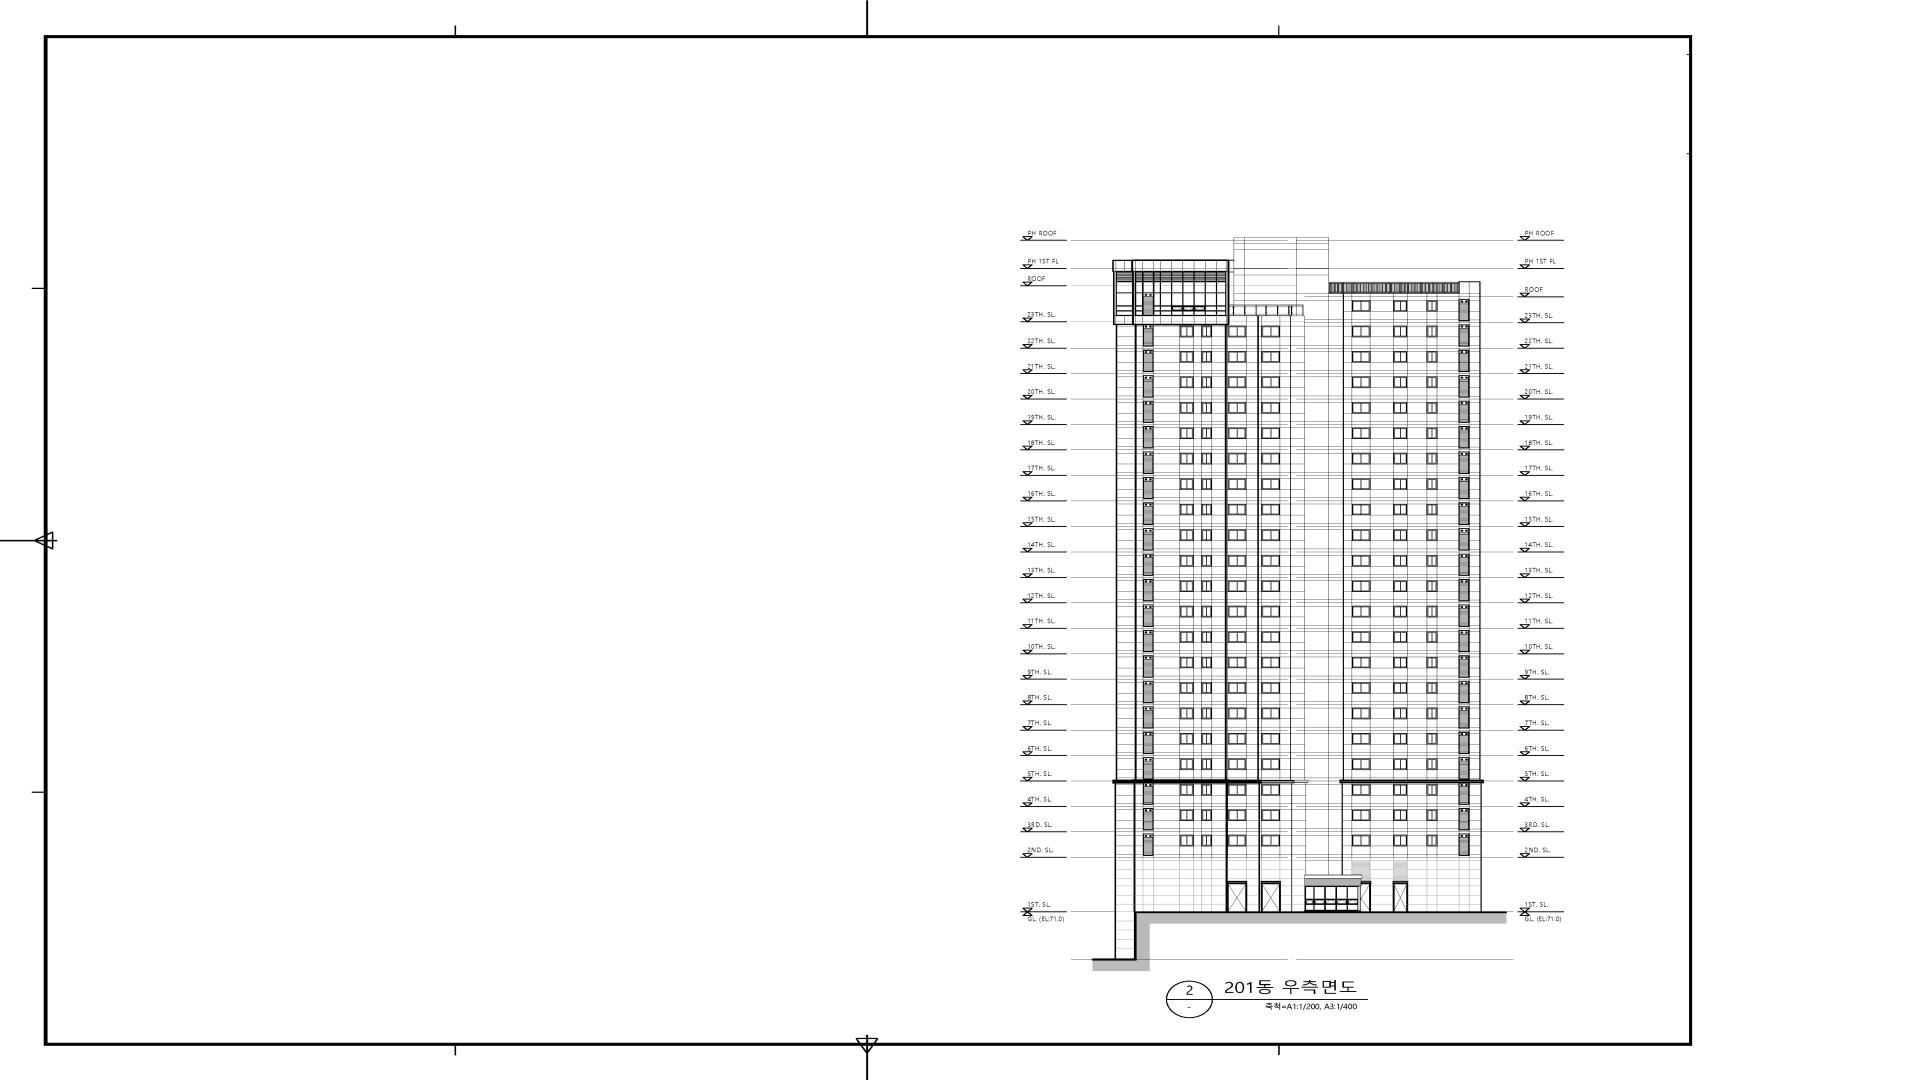door: (1228, 882, 1247, 913), (1261, 882, 1280, 913), (1393, 882, 1408, 913), (1360, 882, 1371, 913)
wall: (1113, 237, 1481, 960)
window: (1116, 293, 1133, 315), (1142, 293, 1154, 315), (1315, 886, 1325, 911), (1325, 886, 1336, 911), (1337, 886, 1348, 911), (1348, 886, 1358, 911), (1143, 833, 1154, 856), (1143, 808, 1154, 831), (1143, 782, 1154, 804), (1143, 757, 1154, 779), (1143, 732, 1154, 754), (1143, 705, 1154, 728), (1143, 680, 1154, 703), (1143, 655, 1154, 678), (1143, 630, 1154, 653), (1143, 604, 1154, 626), (1143, 579, 1154, 601), (1143, 554, 1154, 576), (1143, 527, 1154, 550), (1143, 502, 1154, 525), (1143, 477, 1154, 500), (1143, 451, 1154, 473), (1143, 426, 1154, 448), (1143, 401, 1154, 423), (1143, 376, 1154, 398), (1143, 349, 1154, 372), (1143, 324, 1154, 347), (1458, 833, 1469, 856), (1458, 808, 1469, 831), (1458, 782, 1469, 804), (1458, 757, 1469, 779), (1458, 732, 1469, 754), (1458, 707, 1469, 729), (1458, 680, 1469, 703), (1458, 655, 1469, 678), (1458, 630, 1469, 653), (1458, 604, 1469, 626), (1458, 579, 1469, 601), (1458, 554, 1469, 576), (1458, 529, 1469, 551), (1458, 502, 1469, 525), (1458, 477, 1469, 500), (1458, 451, 1469, 473), (1458, 426, 1469, 448), (1458, 401, 1469, 423), (1458, 375, 1469, 397), (1458, 349, 1469, 372), (1458, 324, 1469, 347), (1160, 293, 1171, 315), (1172, 293, 1183, 315), (1183, 293, 1193, 315), (1195, 293, 1205, 315), (1205, 293, 1216, 315), (1216, 293, 1226, 315), (1261, 835, 1280, 847), (1261, 810, 1280, 822), (1261, 758, 1280, 770), (1261, 733, 1280, 745), (1261, 682, 1280, 694), (1261, 657, 1280, 669), (1261, 605, 1280, 617), (1261, 580, 1280, 592), (1261, 529, 1280, 541), (1261, 504, 1280, 516), (1261, 452, 1280, 464), (1261, 427, 1280, 439), (1261, 402, 1280, 414), (1261, 376, 1280, 388), (1261, 351, 1280, 363), (1261, 326, 1280, 338), (1352, 555, 1371, 567), (1458, 299, 1469, 320), (1228, 835, 1246, 847), (1228, 810, 1246, 822), (1228, 758, 1246, 770), (1228, 733, 1246, 745), (1228, 682, 1246, 694), (1228, 657, 1246, 669), (1228, 632, 1246, 644), (1228, 580, 1246, 592), (1228, 555, 1246, 567), (1228, 504, 1246, 516), (1228, 479, 1246, 491), (1228, 452, 1246, 464), (1228, 427, 1246, 439), (1228, 402, 1246, 414), (1228, 351, 1246, 363), (1228, 326, 1246, 338), (1352, 835, 1370, 847), (1352, 758, 1370, 770), (1352, 733, 1370, 745), (1352, 682, 1370, 694), (1352, 657, 1370, 669), (1352, 605, 1370, 617), (1352, 580, 1370, 592), (1352, 504, 1370, 516), (1352, 452, 1370, 464), (1352, 427, 1370, 439), (1352, 402, 1370, 414), (1352, 351, 1370, 363), (1352, 326, 1370, 338), (1261, 785, 1280, 795), (1261, 708, 1280, 719), (1261, 632, 1280, 642), (1261, 555, 1280, 566), (1261, 479, 1280, 489), (1305, 886, 1313, 911), (1228, 785, 1246, 795), (1228, 708, 1246, 719), (1228, 607, 1246, 617), (1228, 530, 1246, 541), (1228, 377, 1246, 388), (1352, 810, 1370, 820), (1352, 785, 1370, 795), (1352, 708, 1370, 719), (1352, 632, 1370, 642), (1352, 530, 1370, 541), (1352, 479, 1370, 489), (1352, 377, 1370, 388), (1352, 301, 1370, 311), (1393, 351, 1407, 363), (1393, 326, 1407, 338), (1179, 835, 1193, 847), (1179, 810, 1193, 822), (1179, 783, 1193, 795), (1179, 758, 1193, 770), (1179, 733, 1193, 745), (1179, 682, 1193, 694), (1179, 605, 1193, 617), (1179, 580, 1193, 592), (1179, 452, 1193, 464), (1179, 376, 1193, 388), (1179, 351, 1193, 363), (1393, 810, 1407, 822), (1393, 758, 1407, 770), (1393, 733, 1407, 745), (1393, 682, 1407, 694), (1393, 657, 1407, 669), (1393, 632, 1407, 644), (1393, 605, 1407, 617), (1393, 580, 1407, 592), (1393, 555, 1407, 567), (1393, 529, 1407, 541), (1393, 504, 1407, 516), (1393, 479, 1407, 491), (1393, 452, 1407, 464), (1393, 427, 1407, 439), (1393, 402, 1407, 414), (1393, 376, 1407, 388), (1180, 657, 1193, 669), (1180, 632, 1193, 644), (1180, 555, 1193, 567), (1180, 529, 1193, 541), (1180, 504, 1193, 516), (1180, 427, 1193, 439), (1180, 402, 1193, 414), (1180, 326, 1193, 338), (1394, 835, 1407, 847), (1393, 301, 1407, 311), (1393, 785, 1407, 795), (1393, 708, 1407, 719), (1180, 708, 1193, 719), (1180, 479, 1193, 489), (1201, 835, 1212, 847), (1201, 783, 1212, 795), (1201, 758, 1212, 770), (1201, 733, 1212, 745), (1201, 682, 1212, 694), (1201, 657, 1212, 669), (1201, 605, 1212, 617), (1201, 580, 1212, 592), (1201, 555, 1212, 567), (1201, 529, 1212, 541), (1201, 504, 1212, 516), (1201, 479, 1212, 491), (1201, 452, 1212, 464), (1201, 427, 1212, 439), (1201, 402, 1212, 414), (1201, 376, 1212, 388), (1201, 351, 1212, 363), (1201, 326, 1212, 338), (1427, 835, 1437, 847), (1427, 810, 1437, 822), (1427, 758, 1437, 770), (1427, 733, 1437, 745), (1427, 682, 1437, 694), (1427, 657, 1437, 669), (1427, 632, 1437, 644), (1427, 605, 1437, 617), (1427, 580, 1437, 592), (1427, 555, 1437, 567), (1427, 504, 1437, 516), (1427, 479, 1437, 491), (1427, 452, 1437, 464), (1427, 427, 1437, 439), (1427, 402, 1437, 414), (1427, 376, 1437, 388), (1427, 351, 1437, 363), (1427, 326, 1437, 338), (1201, 810, 1212, 820), (1201, 708, 1212, 719), (1201, 632, 1212, 642), (1427, 785, 1437, 795), (1427, 708, 1437, 719), (1427, 530, 1437, 541), (1427, 301, 1437, 311)
